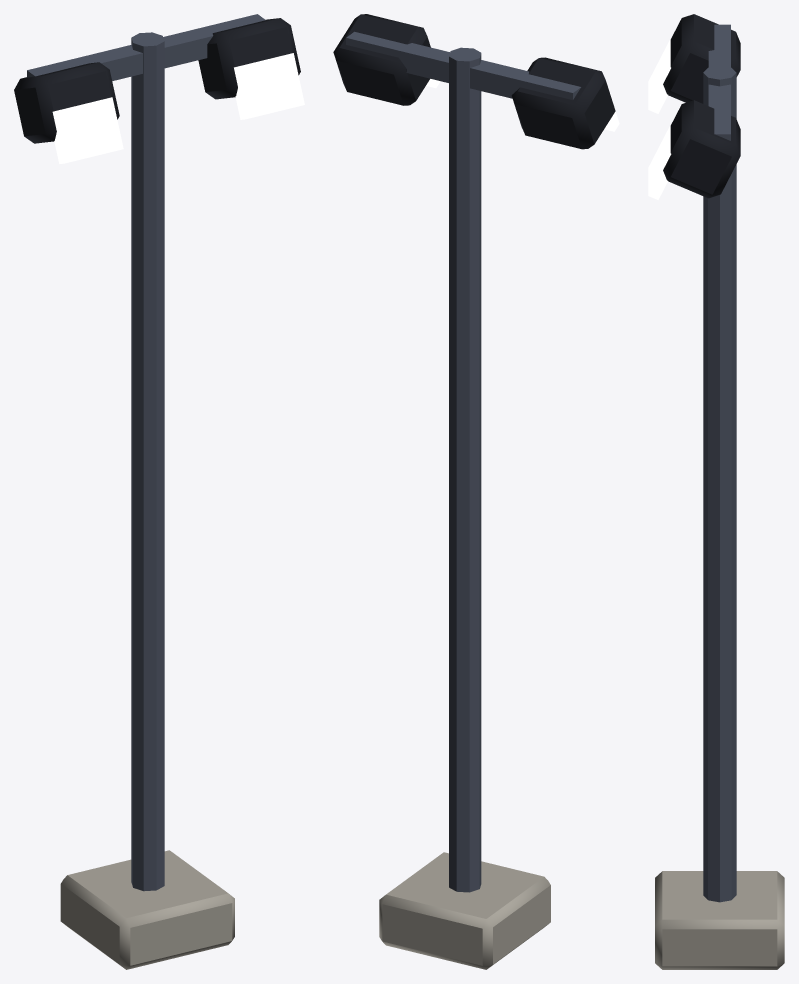
The model's file is sv_lamp.glb.
The picture shows the model from 3 angles, left to right: view 1: azimuth 30°, elevation 25°; view 2: azimuth 150°, elevation 25°; view 3: azimuth 270°, elevation 25°; orthographic projection. The views are drawn at different scales.
Parts seen in each view (by area): view 1: body, lamp_glow; view 2: body; view 3: body, lamp_glow.
Boxes of the visible parts, x1,y1,x2,y2 form: body: (14, 14, 300, 969); lamp_glow: (52, 53, 304, 163); body: (333, 14, 615, 969); body: (655, 14, 784, 969); lamp_glow: (648, 39, 671, 199).
Size of the model in its own units: 1.55 by 5.21 by 0.7364.
